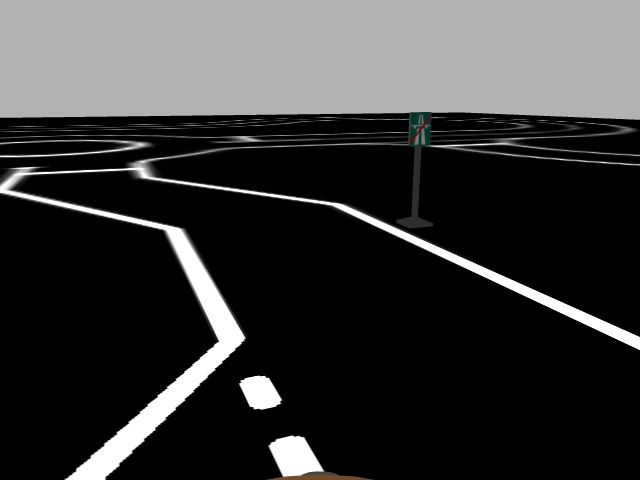leave_highway: (406, 109, 432, 147)
